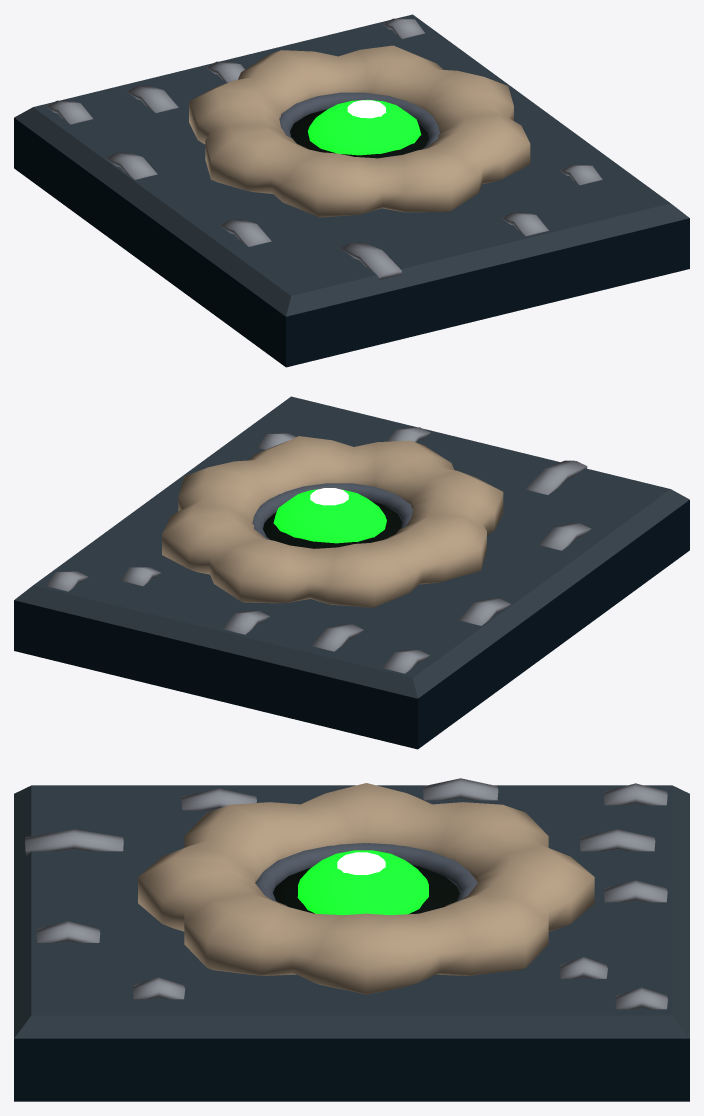
File: newshh-1.glb
3 views of the same model, one above another, from view 1: azimuth 30°, elevation 25°; view 2: azimuth 150°, elevation 25°; view 3: azimuth 270°, elevation 25° (orthographic). The views are drawn at different scales.
Visible parts, largest first — view 1: newshh-1, newshh-1-eye-open; view 2: newshh-1, newshh-1-eye-open; view 3: newshh-1, newshh-1-eye-open.
Boxes of the visible parts, x1,y1,x2,y2 form: newshh-1: (14,14,689,367); newshh-1-eye-open: (307,99,421,155); newshh-1: (14,396,689,749); newshh-1-eye-open: (273,488,386,543); newshh-1: (14,778,689,1101); newshh-1-eye-open: (297,850,428,915).
Size of the model in its own units: 2 by 0.51 by 2.33.
